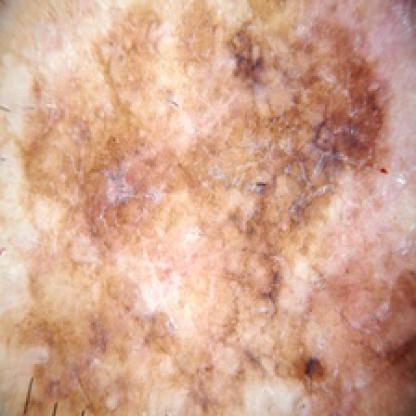malignant: (20, 32, 412, 410)
